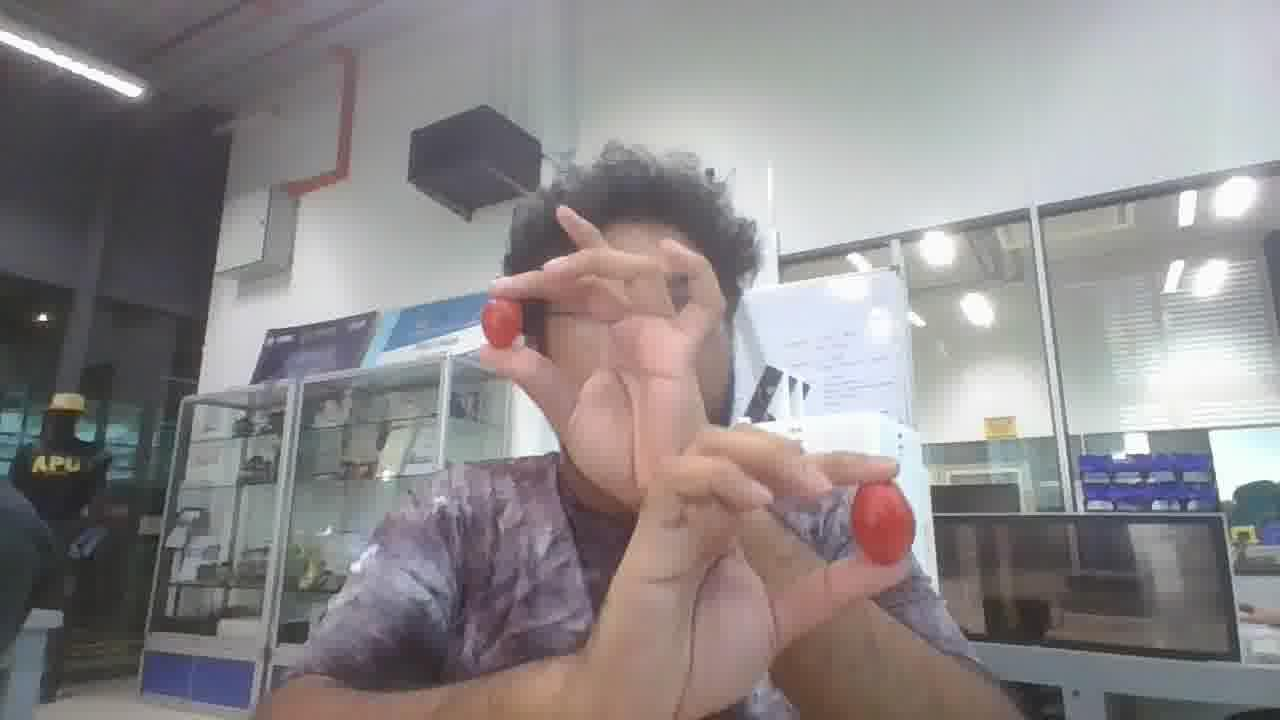red_cherry_tomato: (850, 484, 915, 565), (481, 298, 523, 348)
